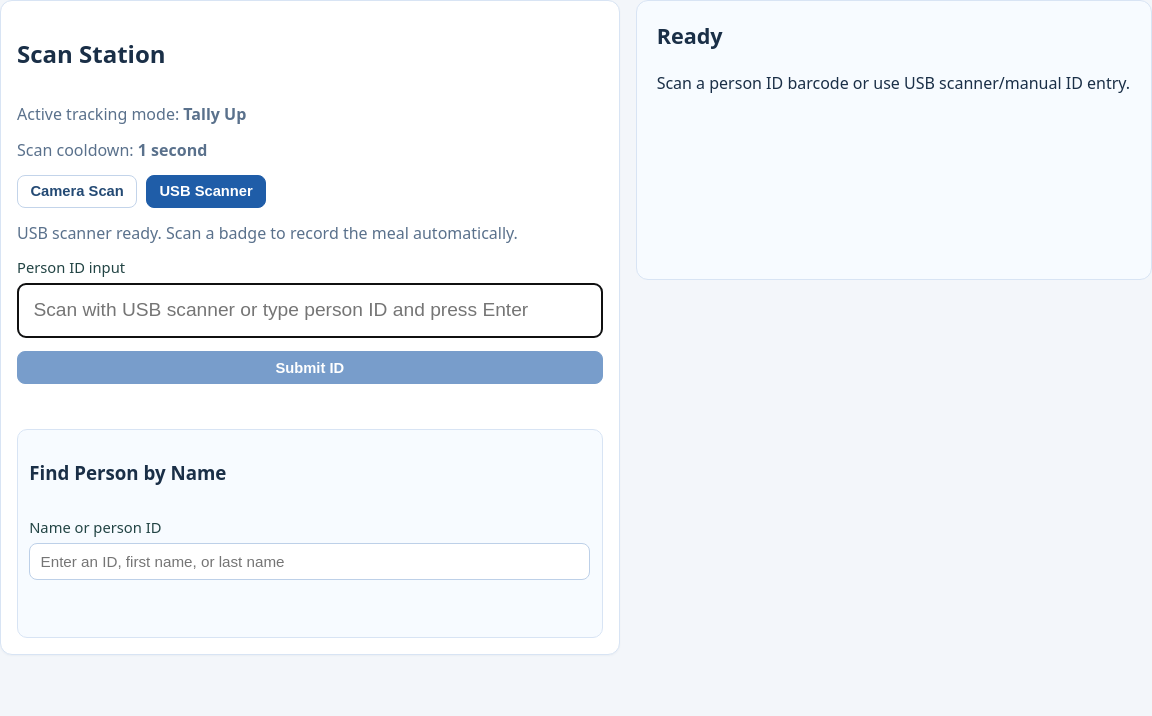
Scan station › scans a quantity from the name search, then returns the cursor to the scan box
The image size is (1152, 716).
In the search field labelled "Name or person ID": x=310, y=561 left=29, top=543, right=590, bottom=580, type "k"
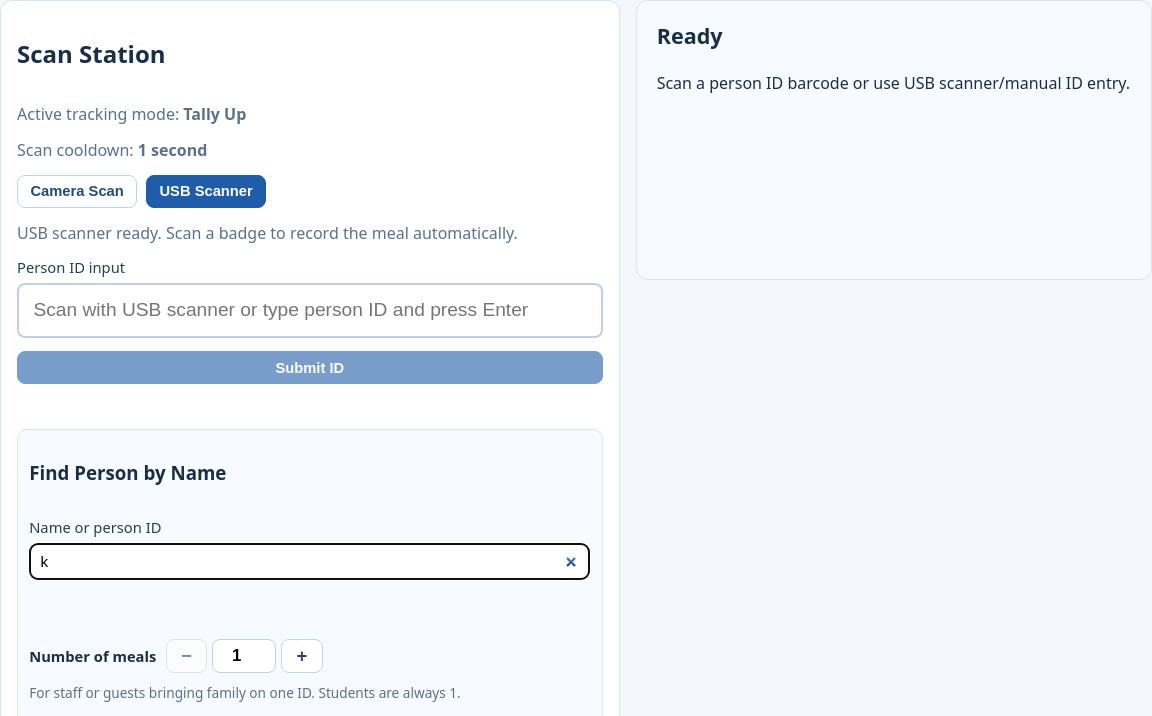
Click the button named "One more meal": x=302, y=656 left=281, top=639, right=323, bottom=673
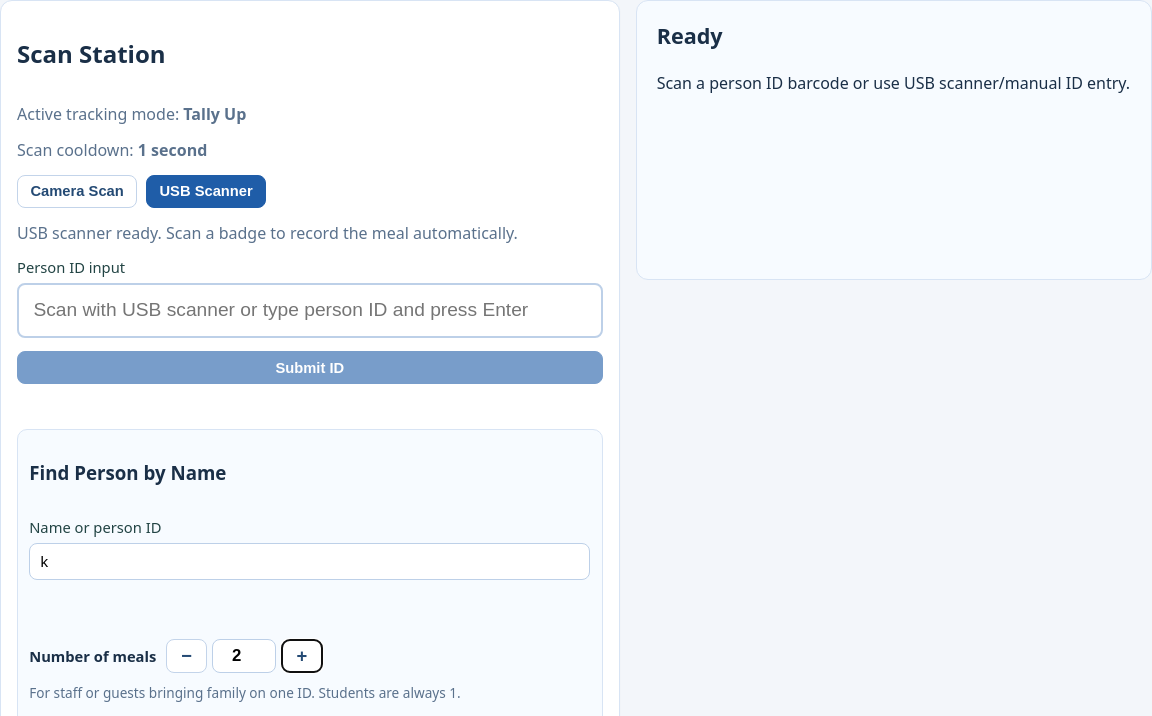
Click the button named "One more meal": x=302, y=656 left=281, top=639, right=323, bottom=673
(page scrolled)
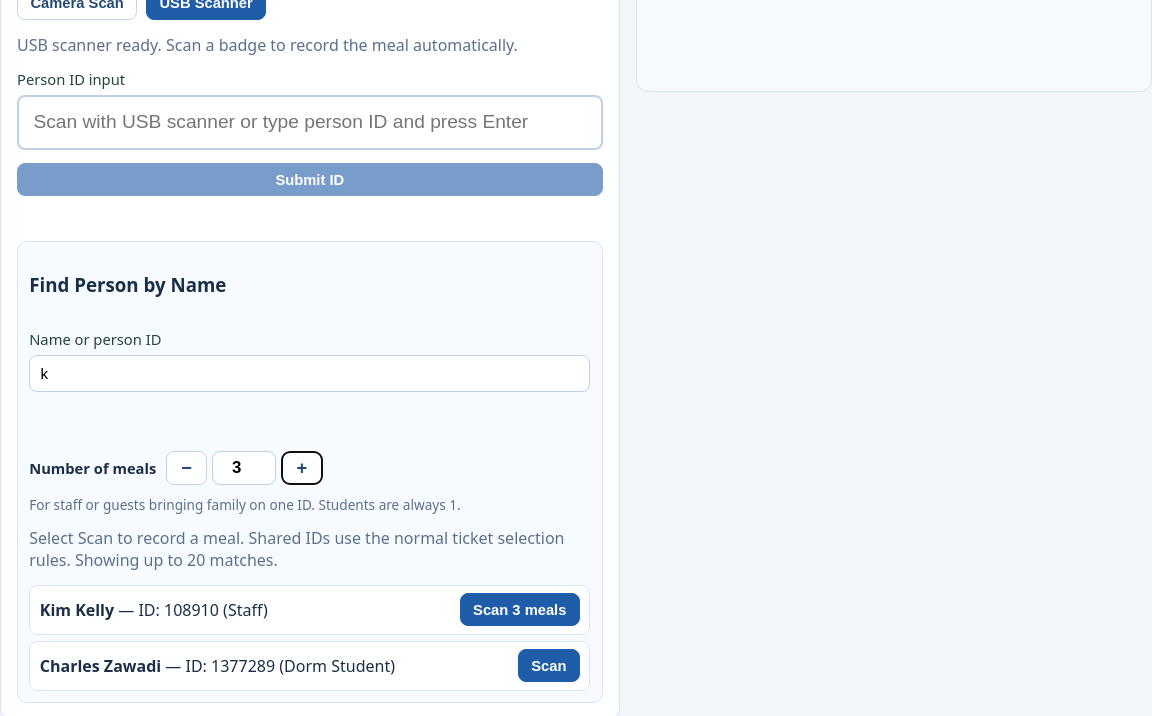
Result: the list item "Charles Zawadi — ID: 1377289 (Dorm Student) Scan" is shown at left=29, top=641, right=590, bottom=691
Click the button "Scan 3 meals": x=520, y=610 left=460, top=593, right=580, bottom=626
(page scrolled)
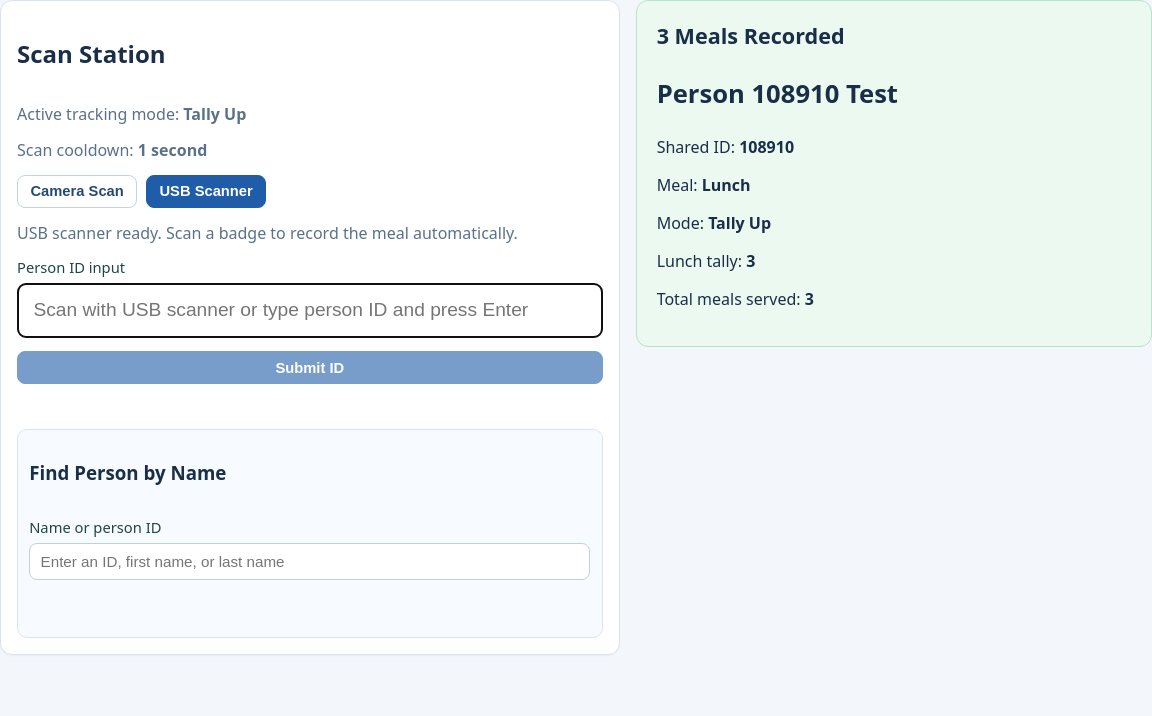
Result: the heading "3 Meals Recorded" is shown at left=657, top=21, right=845, bottom=50
